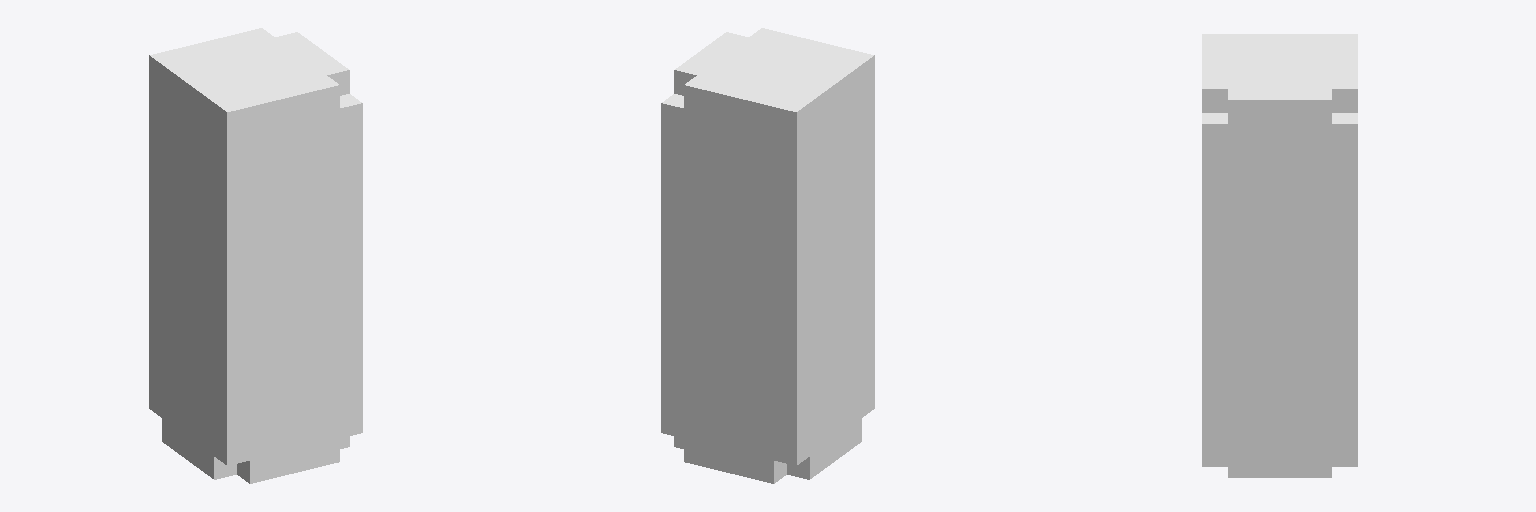
File: male_02-3.obj
3 renders of one model, left to right at view 1: azimuth 30°, elevation 25°; view 2: azimuth 150°, elevation 25°; view 3: azimuth 270°, elevation 25°, orthographic.
Parts seen in each view (by area): view 1: male_02-3; view 2: male_02-3; view 3: male_02-3.
Part boxes in pixels (x1,y1,x2,y2): male_02-3: (149,28,362,483); male_02-3: (661,28,874,483); male_02-3: (1202,34,1357,477).
Bounding box in the file's own units: 6 × 16 × 6.